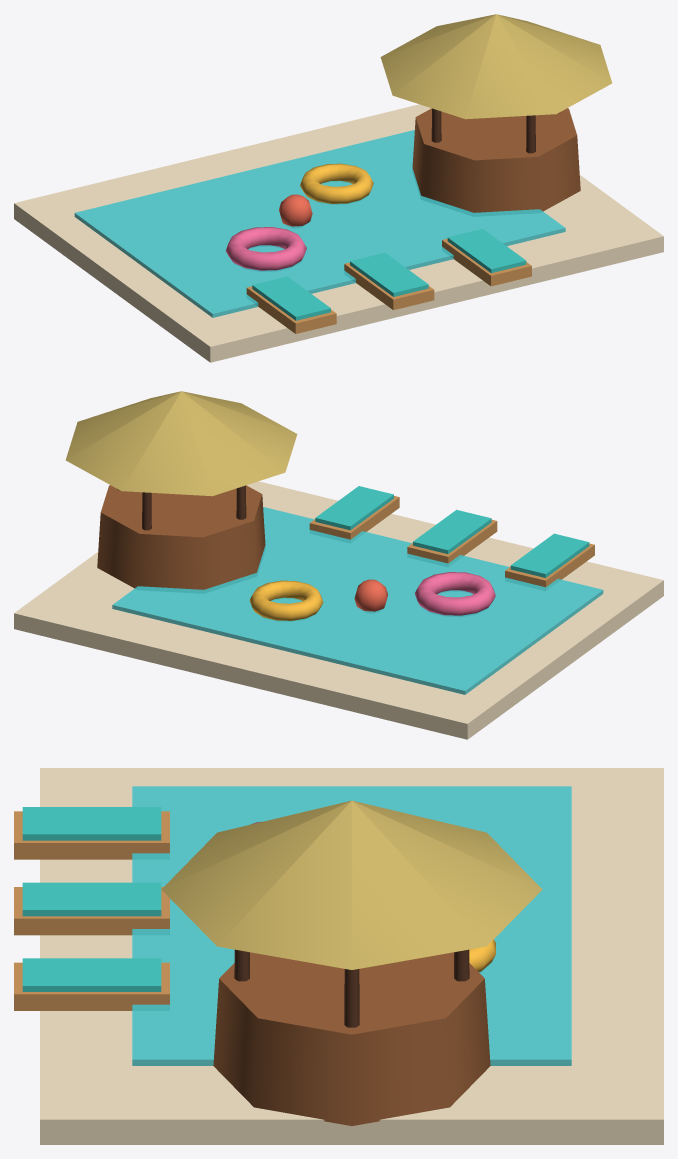
Rendered from resort-pool.glb.
The picture shows the model from 3 angles, top to bottom: view 1: azimuth 30°, elevation 25°; view 2: azimuth 150°, elevation 25°; view 3: azimuth 270°, elevation 25°; orthographic projection. The views are drawn at different scales.
Parts seen in each view (by area): view 1: Mesh_water, Mesh_cream, Mesh_bamboo, Mesh_wood, Mesh_turquoise, Mesh_lightWood, Mesh_flamingo, Mesh_mango, Mesh_coral, Mesh_darkWood; view 2: Mesh_water, Mesh_cream, Mesh_bamboo, Mesh_wood, Mesh_turquoise, Mesh_lightWood, Mesh_flamingo, Mesh_mango, Mesh_coral, Mesh_darkWood; view 3: Mesh_cream, Mesh_water, Mesh_bamboo, Mesh_wood, Mesh_turquoise, Mesh_lightWood, Mesh_darkWood, Mesh_mango.
Part boxes in pixels (box(x1,y1,x2,y2)): Mesh_water: box(74, 130, 565, 317); Mesh_cream: box(14, 104, 663, 362); Mesh_bamboo: box(380, 14, 612, 119); Mesh_wood: box(412, 108, 580, 212); Mesh_turquoise: box(252, 228, 526, 320); Mesh_lightWood: box(246, 238, 531, 333); Mesh_flamingo: box(225, 227, 306, 270); Mesh_mango: box(300, 163, 373, 203); Mesh_coral: box(279, 194, 312, 226); Mesh_darkWood: box(431, 108, 560, 153); Mesh_water: box(112, 507, 603, 694); Mesh_cream: box(14, 481, 663, 739); Mesh_bamboo: box(65, 391, 297, 496); Mesh_wood: box(97, 485, 265, 589); Mesh_turquoise: box(315, 486, 589, 577); Mesh_lightWood: box(309, 496, 594, 587); Mesh_flamingo: box(414, 572, 495, 615); Mesh_mango: box(249, 580, 323, 620); Mesh_coral: box(354, 579, 387, 611); Mesh_darkWood: box(117, 485, 246, 530); Mesh_cream: box(40, 768, 663, 1144); Mesh_water: box(132, 786, 571, 1065); Mesh_bamboo: box(161, 800, 542, 969); Mesh_wood: box(213, 952, 490, 1125); Mesh_turquoise: box(22, 807, 161, 991); Mesh_lightWood: box(14, 811, 169, 1010); Mesh_darkWood: box(234, 949, 469, 1027); Mesh_mango: box(469, 939, 495, 972).
Bounding box in the file's own units: 7.75 × 2.78 × 5.62.
